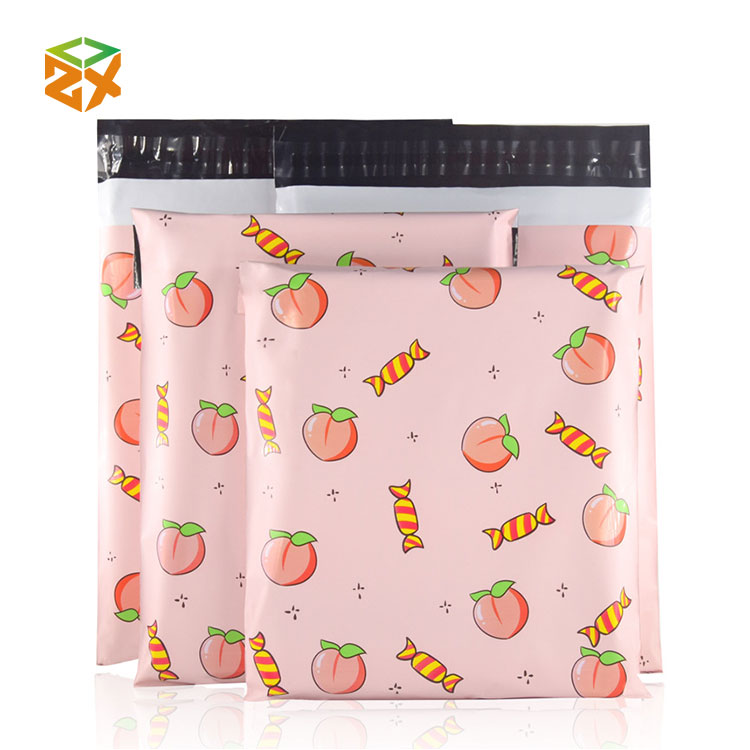塑料袋: (275, 120, 660, 672), (135, 210, 514, 684), (242, 264, 639, 700), (95, 118, 277, 729)
